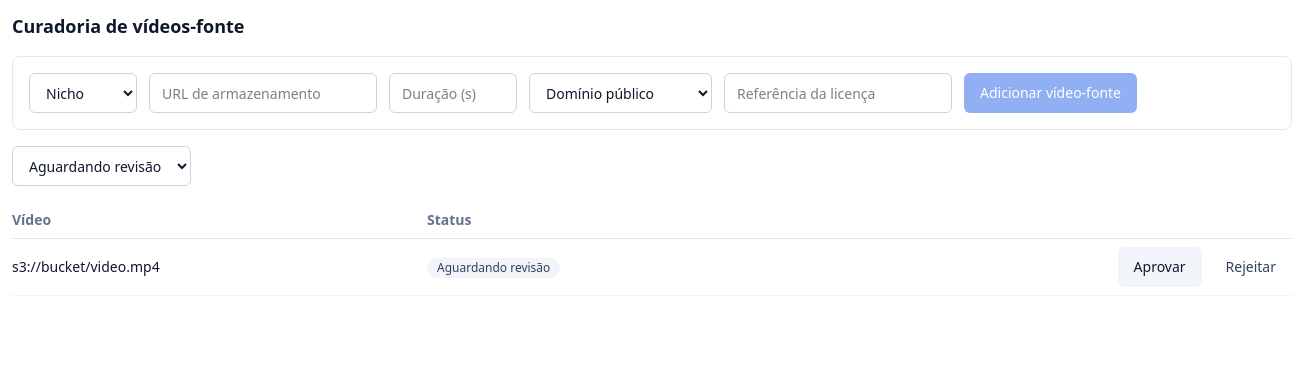
SourceVideoCuration › should ingest a new source video
The width and height of the screenshot is (1304, 370).
Expected: the text "s3://bucket/video.mp4" is shown, x1=12 y1=238 x2=427 y2=296
Select "Futebol" in the 1st dropdown showing "Nicho": (83, 93) x1=29 y1=73 x2=137 y2=113
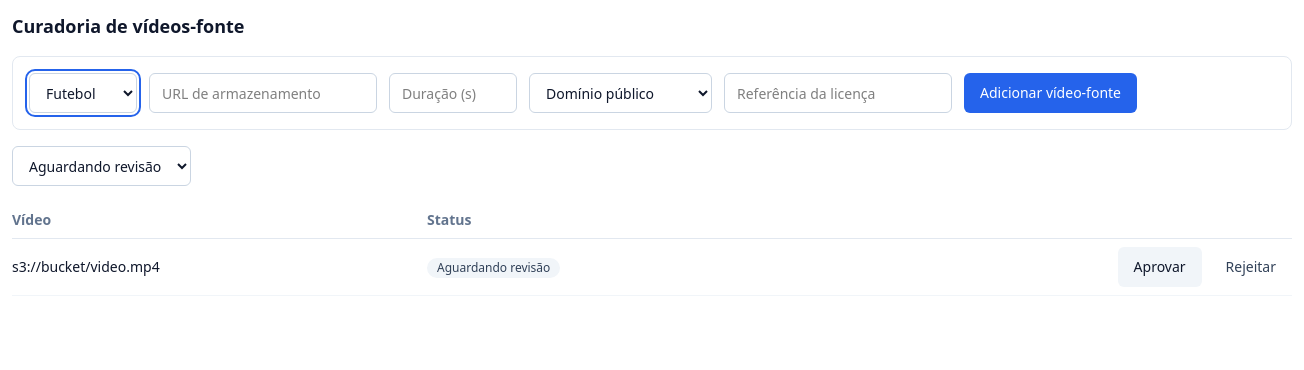
In the field with placeholder "URL de armazenamento": (263, 93) x1=149 y1=73 x2=377 y2=113, type "s3://bucket/new.mp4"
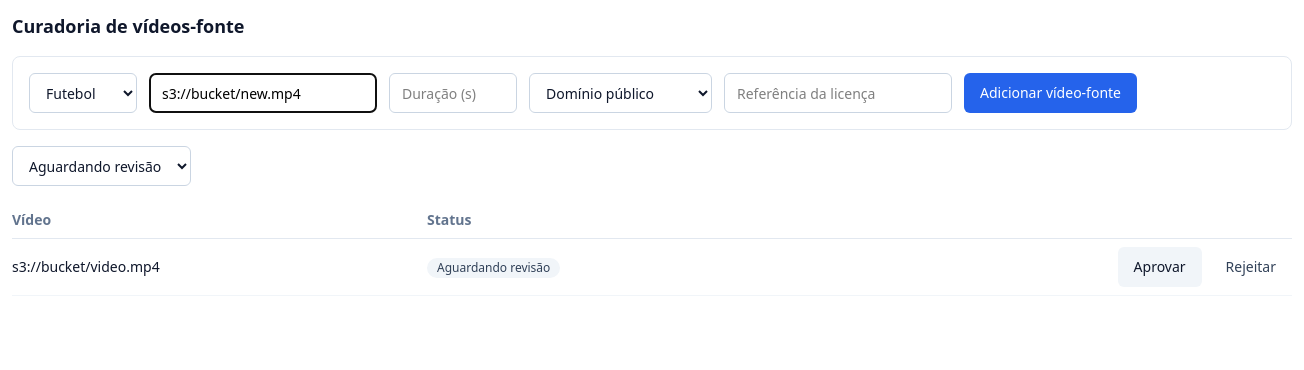
In the number field with placeholder "Duração (s)": (453, 93) x1=389 y1=73 x2=517 y2=113, type "300"
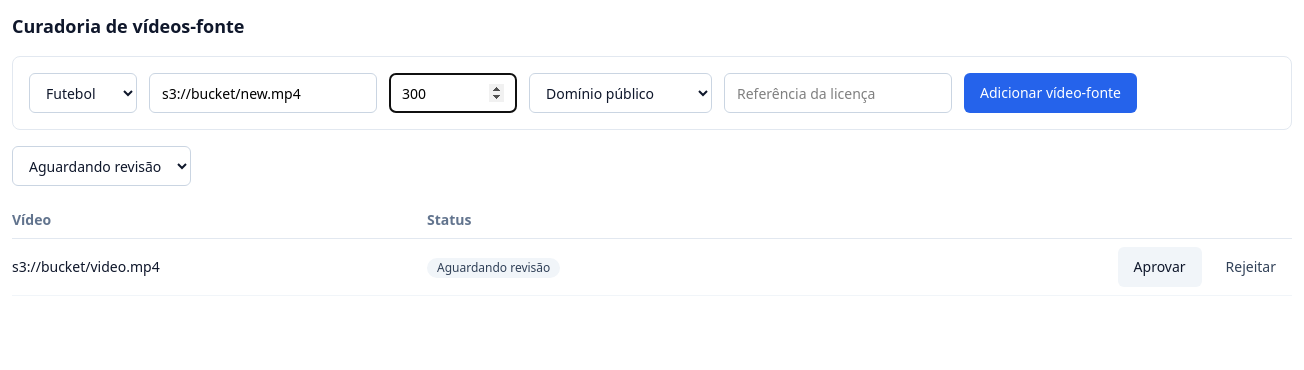
In the field with placeholder "Referência da licença": (838, 93) x1=724 y1=73 x2=952 y2=113, type "https://example.com/ref"
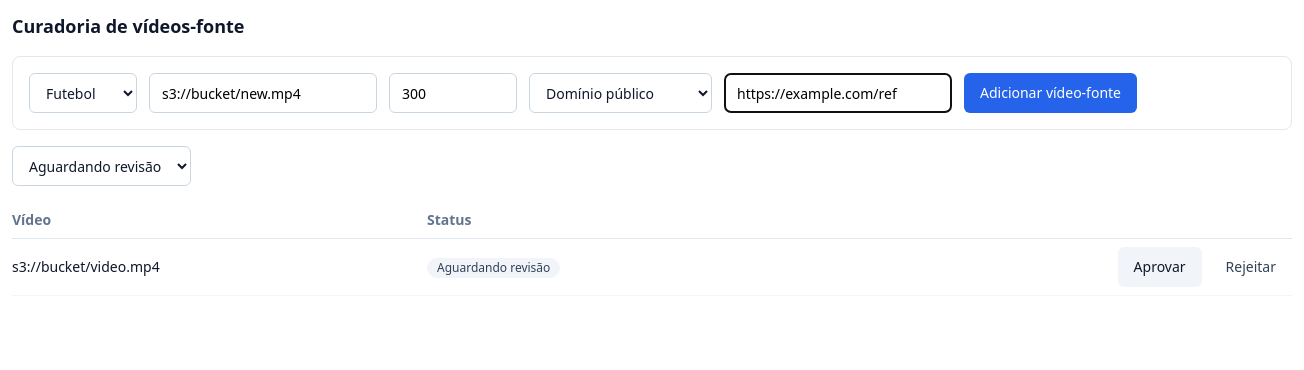
Click the button "Adicionar vídeo-fonte": (1050, 93) x1=964 y1=73 x2=1137 y2=113
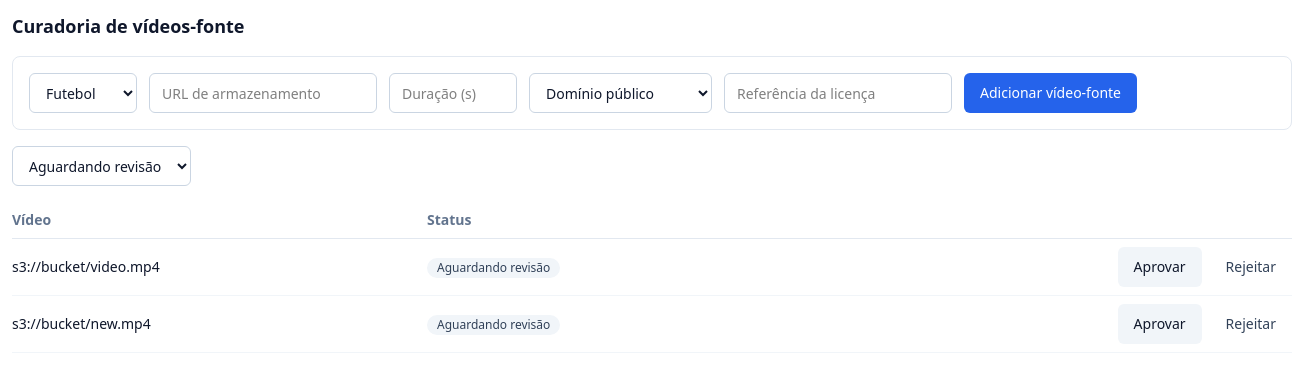
Expected: the text "s3://bucket/new.mp4" is shown, x1=12 y1=296 x2=427 y2=352
